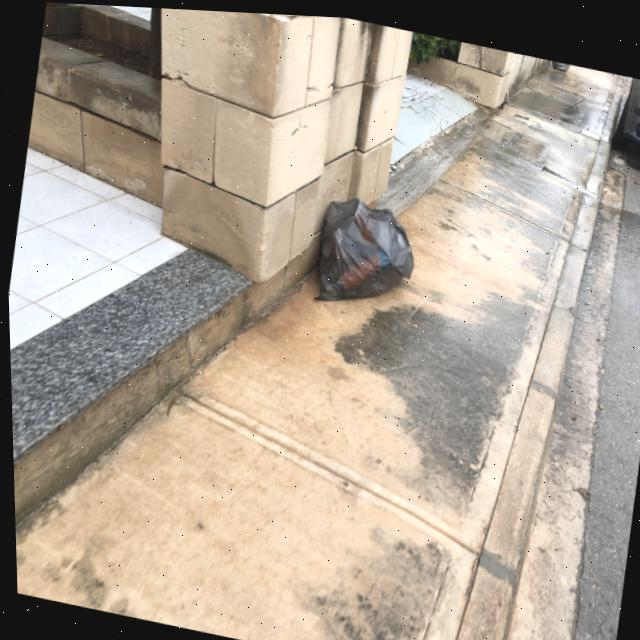Mixed Waste -Black Bag-: (311, 190, 425, 318)
